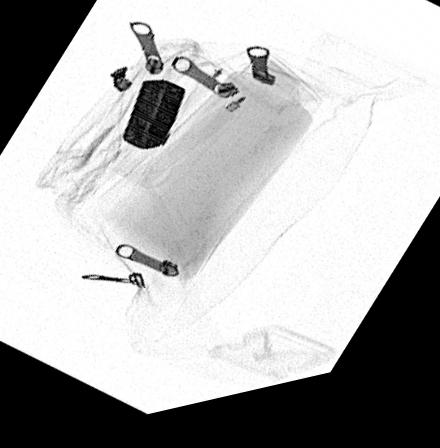Lighter: (121, 86, 186, 156)
